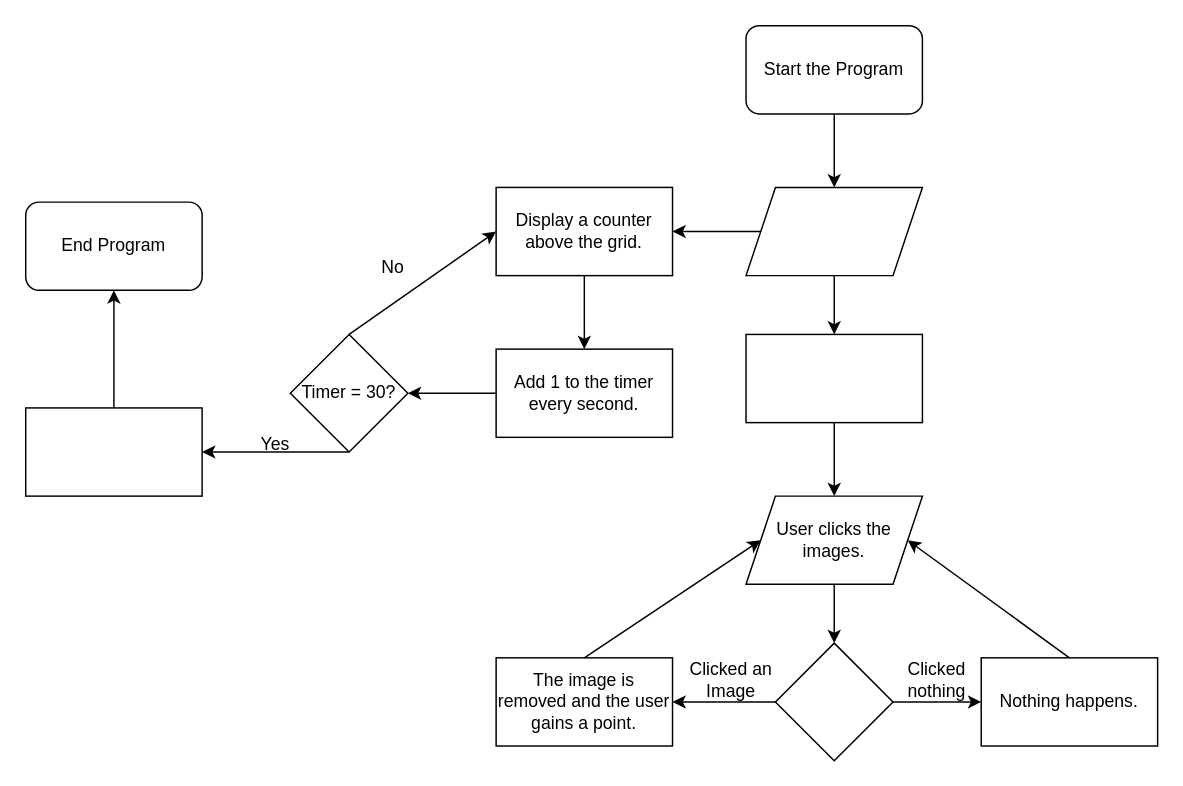
Some shapes in this 1183 by 786 pixel diagram are drawn without their labels. The centre of each missing label's shape, as x and y in pixels:
"Clicked on the grid" goes at (833,701).
"Display current score and stop producing images on the grid." goes at (113,451).
"Images begin to flash on the grid randomly." goes at (833,378).
"User clicks the 'Start Game Button'" goes at (833,231).
